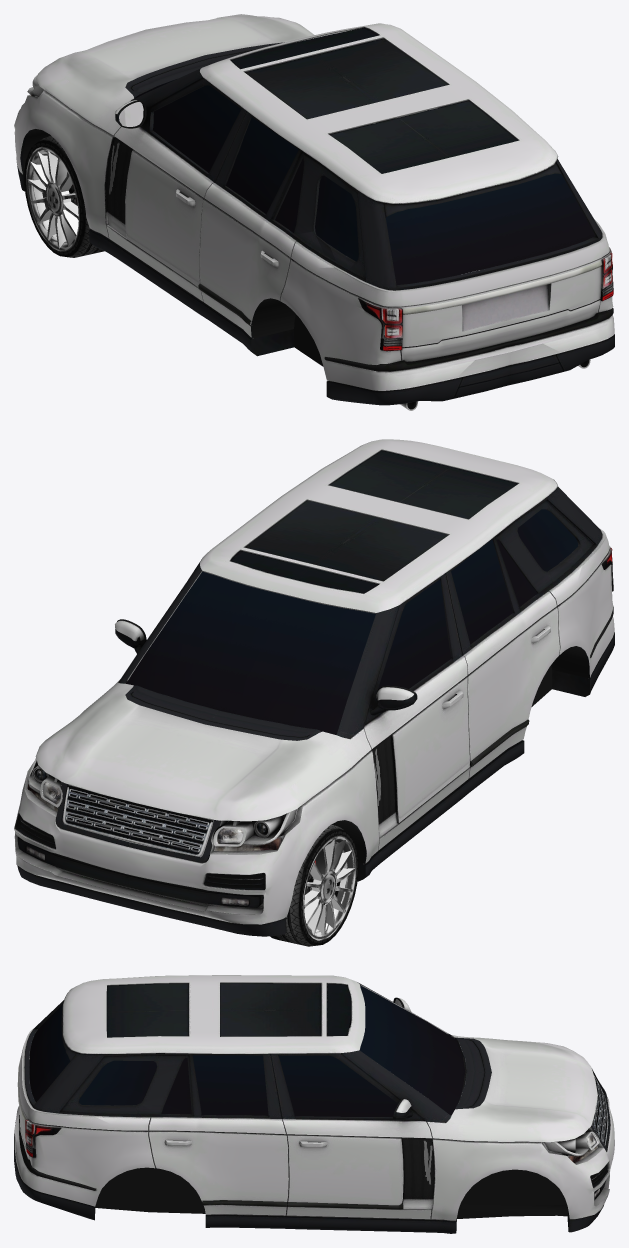
The model's file is Prado cmbine.fbx.
3 views of the same model, one above another, from view 1: azimuth 30°, elevation 25°; view 2: azimuth 150°, elevation 25°; view 3: azimuth 270°, elevation 25° (orthographic). The views are drawn at different scales.
Visible parts, largest first — view 1: Body, wheel.003; view 2: Body, wheel.003; view 3: Body.
Part boxes in pixels (bbox=[...]): Body: bbox=[14, 14, 614, 410]; wheel.003: bbox=[24, 136, 104, 257]; Body: bbox=[14, 439, 614, 936]; wheel.003: bbox=[270, 824, 358, 946]; Body: bbox=[14, 975, 614, 1233].
Bounding box in the file's own units: 407 × 334 × 903.
Materials: 3 (3 with a texture image).
